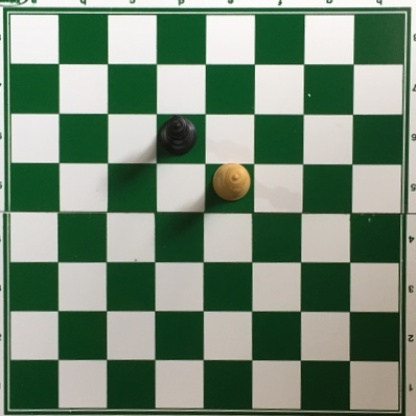black-queen: (158, 113, 198, 159)
white-queen: (211, 161, 250, 200)
